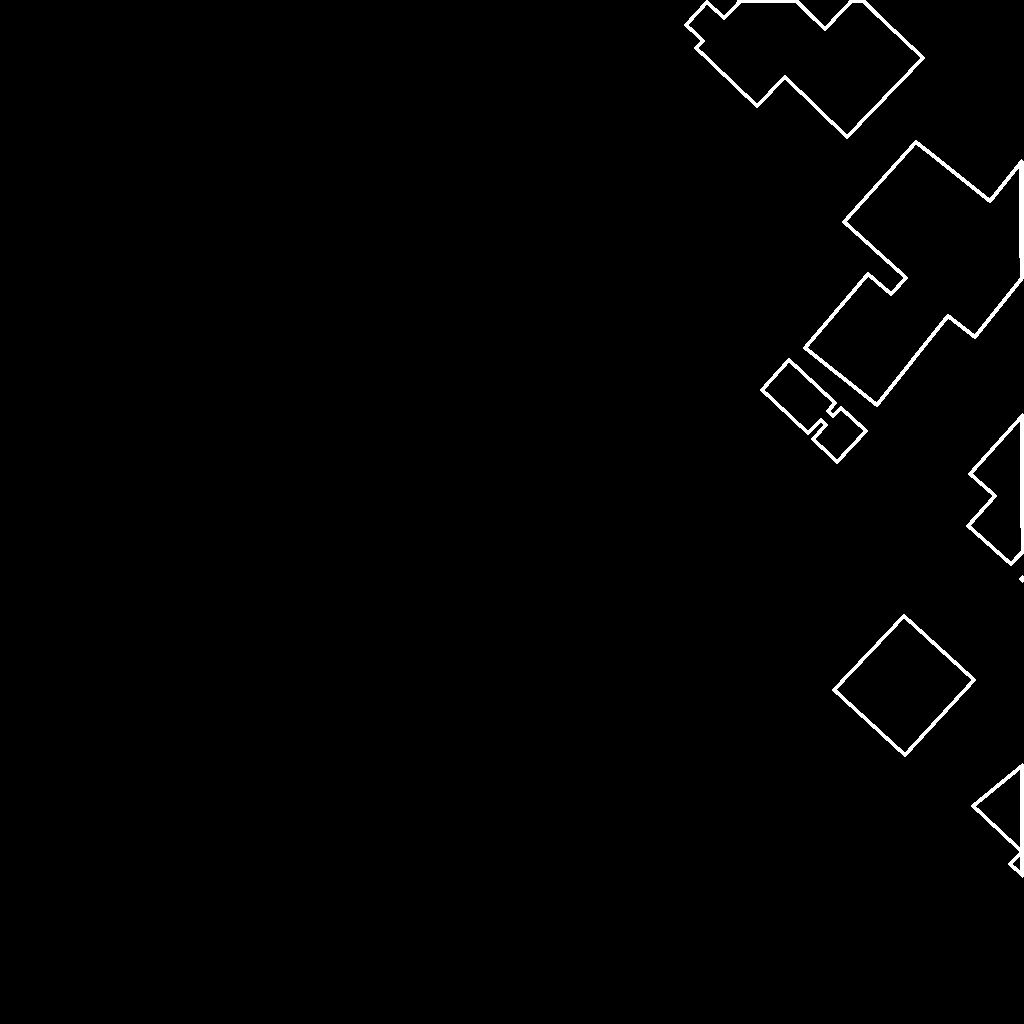building: (805, 142, 1024, 406), (686, 0, 924, 138), (834, 616, 975, 756), (762, 360, 867, 463), (968, 415, 1024, 582), (973, 755, 1024, 877)
